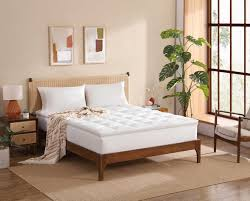bed-matress: (33, 104, 199, 154)
